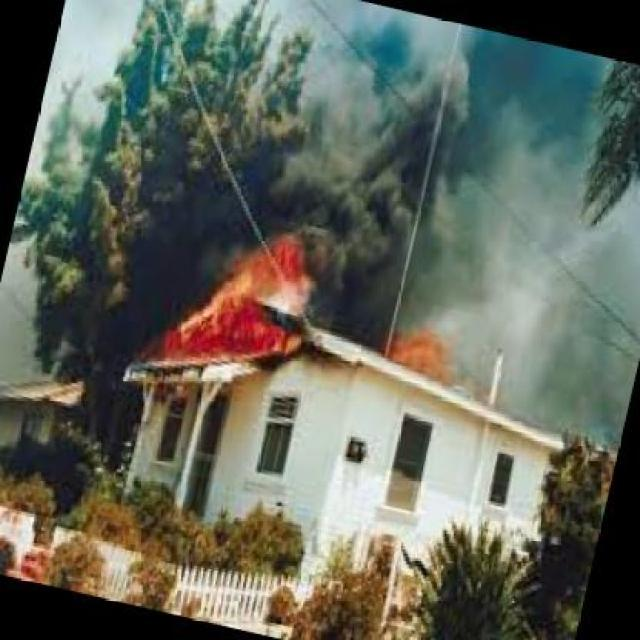Fire: (156, 240, 296, 372), (396, 340, 456, 388)
Smoke: (302, 62, 460, 337), (109, 200, 214, 304)
